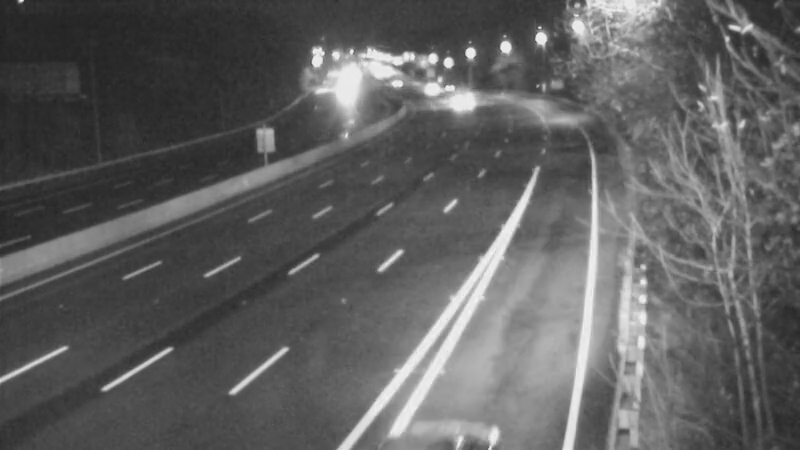vehicle: (370, 59, 420, 109), (424, 62, 474, 112), (405, 65, 455, 115), (436, 82, 486, 132)
